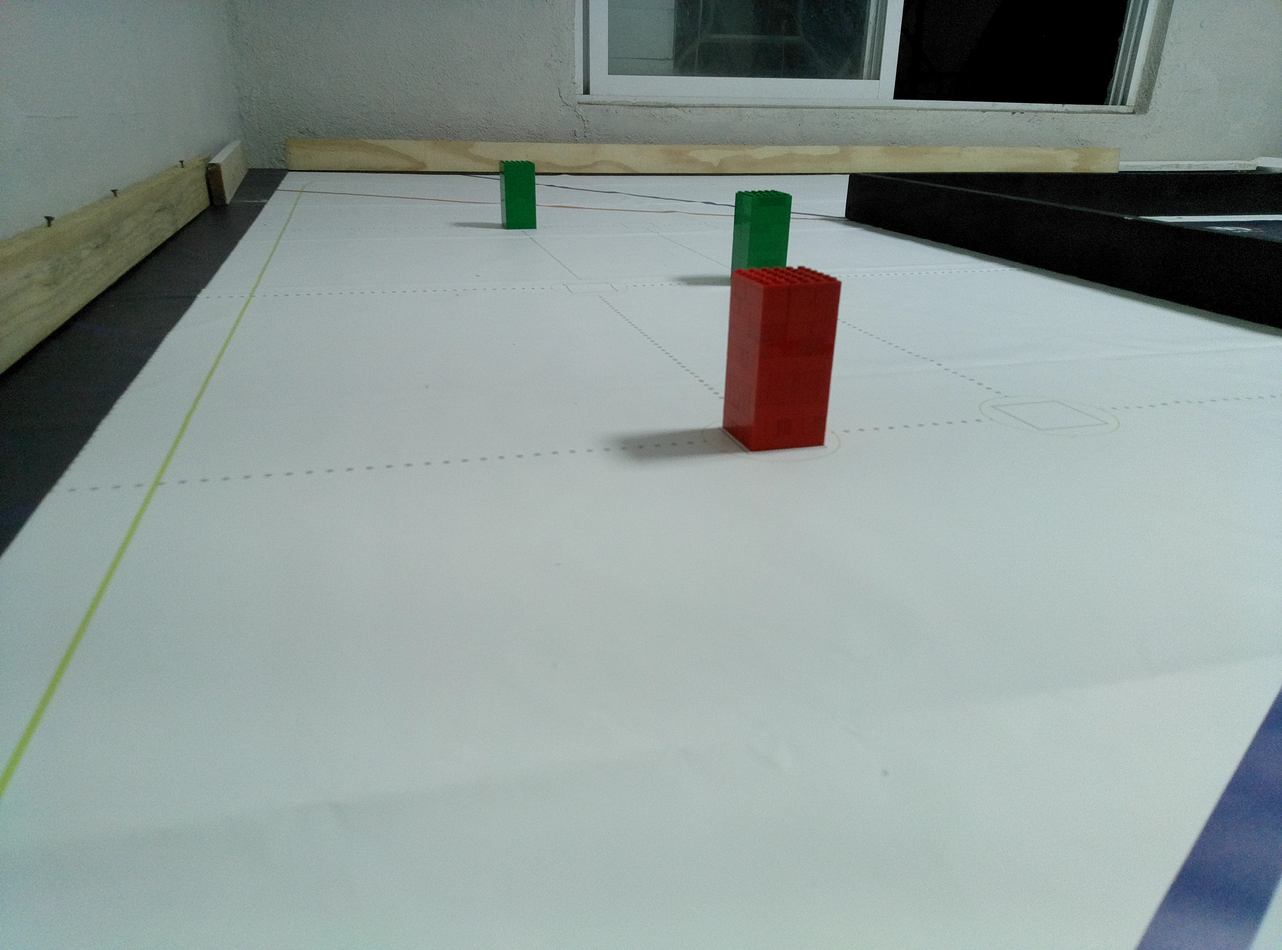greenbox: (731, 189, 792, 267), (499, 160, 537, 229)
redbox: (721, 267, 841, 452)
